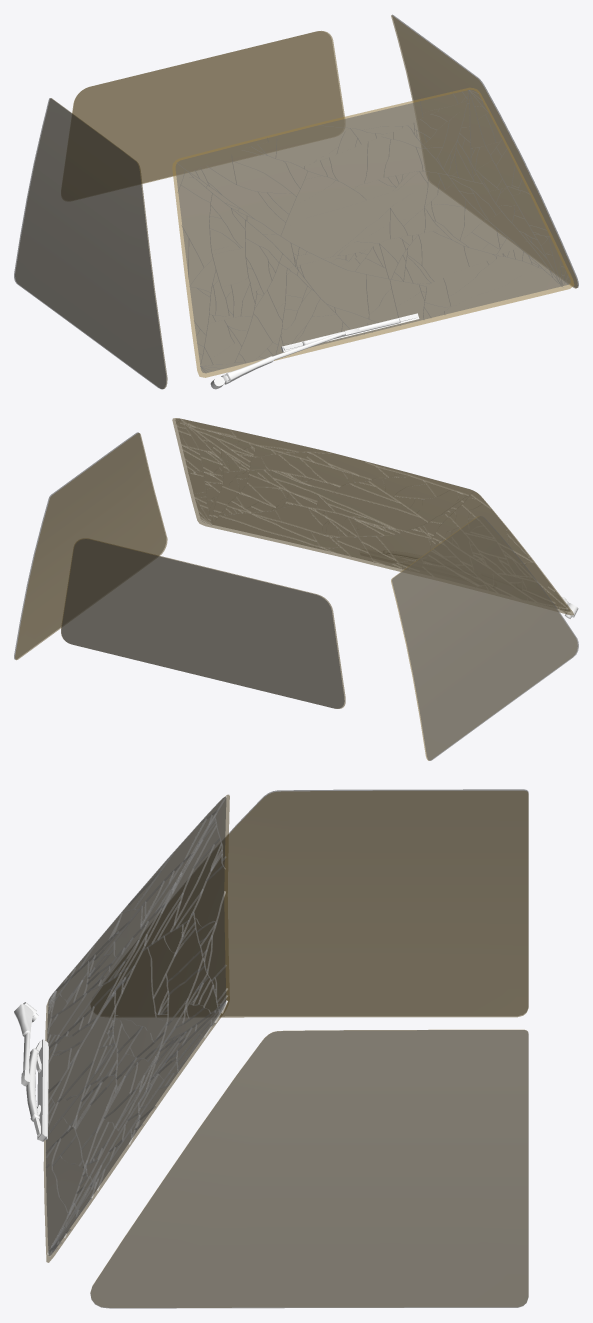
Rendered from glass.dae.
The picture shows the model from 3 angles, top to bottom: view 1: azimuth 30°, elevation 25°; view 2: azimuth 150°, elevation 25°; view 3: azimuth 270°, elevation 25°; orthographic projection. The views are drawn at different scales.
Visible parts, largest first — view 1: pigeon_kei_windshield_int, pigeon_kei_windshield, pigeon_kei_doorglass_R, pigeon_kei_doorglass_R_int, pigeon_kei_backlight_int, pigeon_kei_backlight, pigeon_kei_doorglass_L_int, pigeon_kei_doorglass_L, pigeon_kei_wiper; view 2: pigeon_kei_backlight_int, pigeon_kei_backlight, pigeon_kei_windshield_int, pigeon_kei_doorglass_R, pigeon_kei_doorglass_R_int, pigeon_kei_windshield, pigeon_kei_doorglass_L_int, pigeon_kei_doorglass_L, pigeon_kei_windshield_dmg, pigeon_kei_wiper; view 3: pigeon_kei_doorglass_L, pigeon_kei_doorglass_L_int, pigeon_kei_doorglass_R_int, pigeon_kei_doorglass_R, pigeon_kei_windshield, pigeon_kei_windshield_int, pigeon_kei_windshield_dmg, pigeon_kei_wiper.
Part boxes in pixels (<box>): pigeon_kei_windshield_int: <box>172,87,574,377</box>; pigeon_kei_windshield: <box>175,89,570,373</box>; pigeon_kei_doorglass_R: <box>14,98,166,389</box>; pigeon_kei_doorglass_R_int: <box>15,98,167,388</box>; pigeon_kei_backlight_int: <box>72,31,344,183</box>; pigeon_kei_backlight: <box>73,31,343,182</box>; pigeon_kei_doorglass_L_int: <box>391,15,577,288</box>; pigeon_kei_doorglass_L: <box>392,14,578,287</box>; pigeon_kei_wiper: <box>210,313,419,389</box>; pigeon_kei_backlight_int: <box>61,538,345,708</box>; pigeon_kei_backlight: <box>61,539,344,708</box>; pigeon_kei_windshield_int: <box>172,418,573,615</box>; pigeon_kei_doorglass_R: <box>392,516,578,760</box>; pigeon_kei_doorglass_R_int: <box>391,516,577,760</box>; pigeon_kei_windshield: <box>176,418,569,611</box>; pigeon_kei_doorglass_L_int: <box>15,433,167,659</box>; pigeon_kei_doorglass_L: <box>14,432,165,659</box>; pigeon_kei_windshield_dmg: <box>174,419,568,610</box>; pigeon_kei_wiper: <box>360,549,578,618</box>; pigeon_kei_doorglass_L: <box>90,1030,528,1308</box>; pigeon_kei_doorglass_L_int: <box>90,1029,528,1307</box>; pigeon_kei_doorglass_R_int: <box>220,790,528,1017</box>; pigeon_kei_doorglass_R: <box>222,789,528,1016</box>; pigeon_kei_windshield: <box>46,797,226,1255</box>; pigeon_kei_windshield_int: <box>43,794,229,1262</box>; pigeon_kei_windshield_dmg: <box>45,796,227,1256</box>; pigeon_kei_wiper: <box>14,1002,48,1141</box>.
Bounding box in the file's own units: 1.22 × 0.9997 × 0.5233.
